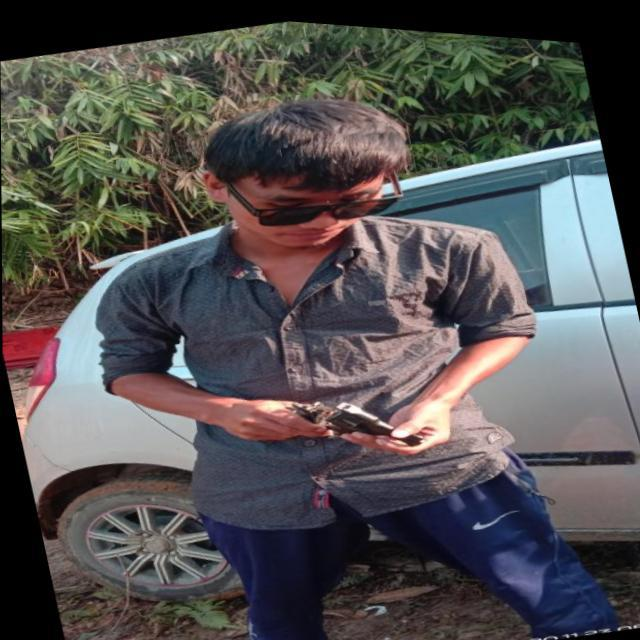weapon: (238, 366, 434, 480)
